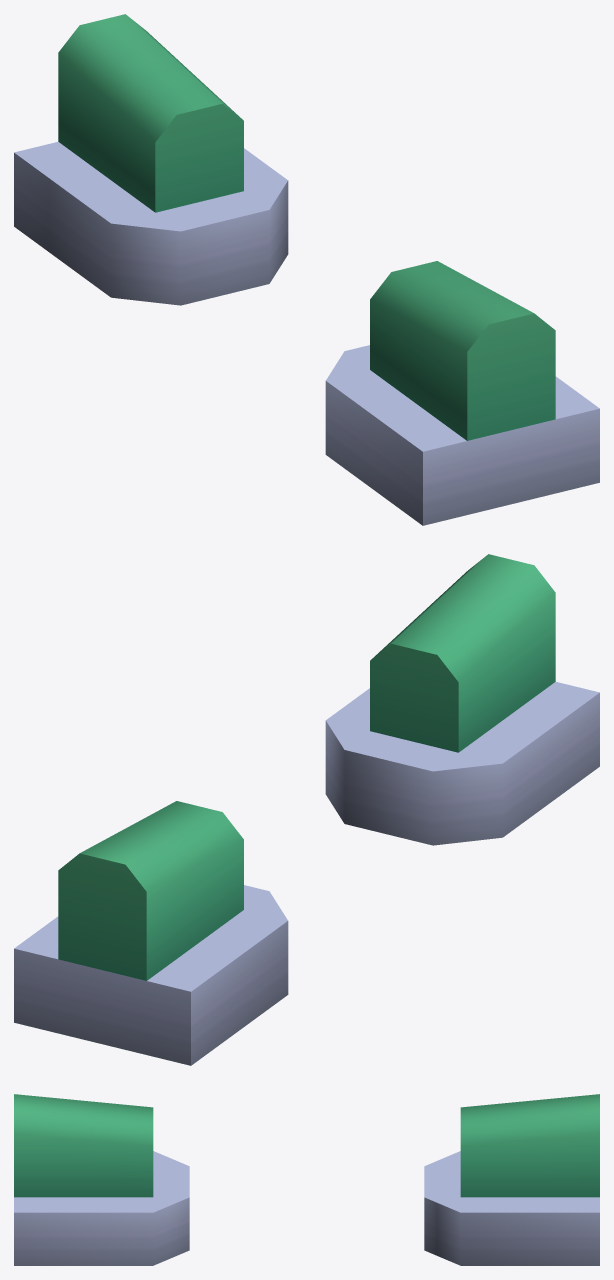
Rendered from hedge-gate.glb.
3 views of the same model, one above another, from view 1: azimuth 30°, elevation 25°; view 2: azimuth 150°, elevation 25°; view 3: azimuth 270°, elevation 25° (orthographic). The views are drawn at different scales.
Parts seen in each view (by area): view 1: hedge-gate; view 2: hedge-gate; view 3: hedge-gate.
Part boxes in pixels (box(x1,y1,x2,y2)): hedge-gate: box(14, 14, 599, 525); hedge-gate: box(14, 554, 599, 1065); hedge-gate: box(14, 1094, 599, 1265).
Size of the model in its own units: 0.25 by 0.25 by 1.
1 material, 1 textured.
